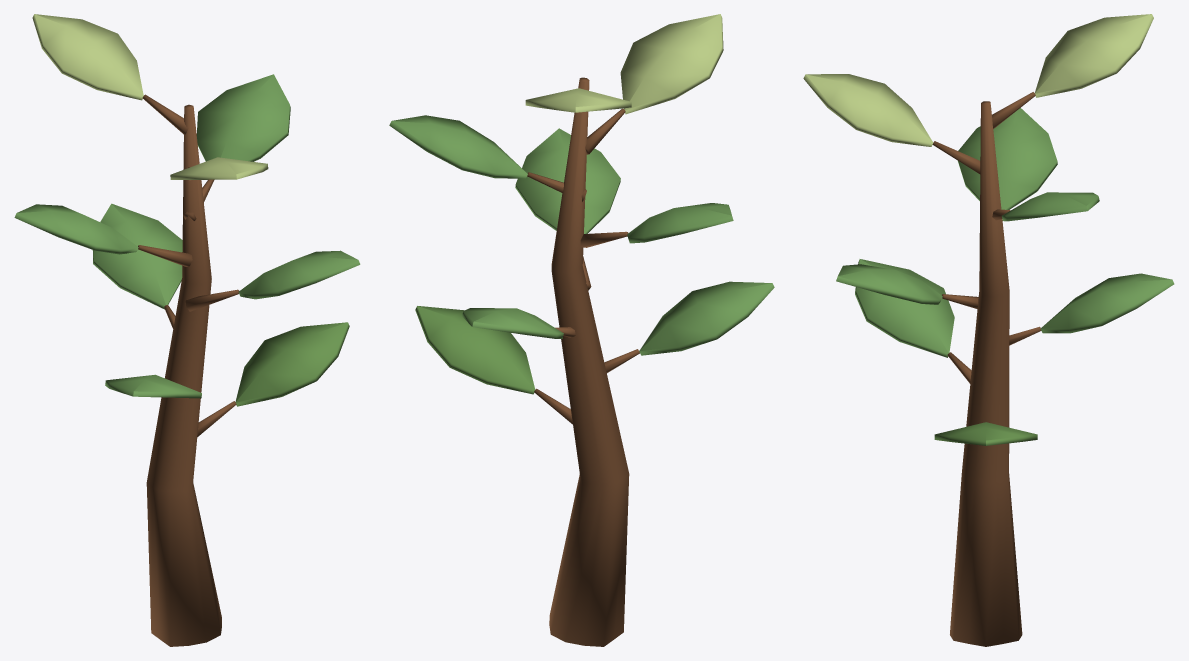
File: mission_tree_seedling.glb
3 renders of one model, left to right at view 1: azimuth 30°, elevation 25°; view 2: azimuth 150°, elevation 25°; view 3: azimuth 270°, elevation 25°, orthographic. The views are drawn at different scales.
Visible parts, largest first — view 1: Heartwood, Crown Leaf meadow, Crown Leaf new tips, Crown Leaf weather; view 2: Heartwood, Crown Leaf meadow, Crown Leaf new tips, Crown Leaf weather; view 3: Heartwood, Crown Leaf meadow, Crown Leaf new tips, Crown Leaf weather.
Boxes of the visible parts, x1=… form: Heartwood: x1=138, y1=94, x2=238, y2=646; Crown Leaf meadow: x1=14, y1=74, x2=360, y2=398; Crown Leaf new tips: x1=32, y1=14, x2=268, y2=179; Crown Leaf weather: x1=235, y1=322, x2=349, y2=406; Heartwood: x1=527, y1=77, x2=639, y2=646; Crown Leaf meadow: x1=389, y1=115, x2=774, y2=355; Crown Leaf new tips: x1=525, y1=14, x2=723, y2=114; Crown Leaf weather: x1=415, y1=306, x2=535, y2=394; Heartwood: x1=932, y1=92, x2=1041, y2=646; Crown Leaf meadow: x1=836, y1=108, x2=1174, y2=357; Crown Leaf new tips: x1=803, y1=14, x2=1153, y2=146; Crown Leaf weather: x1=934, y1=422, x2=1037, y2=445.
Bounding box in the file's own units: 0.6203 × 1.07 × 0.6132.
